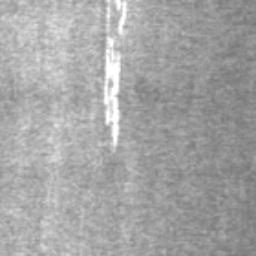White rust: (102, 0, 121, 153), (115, 0, 126, 36)
